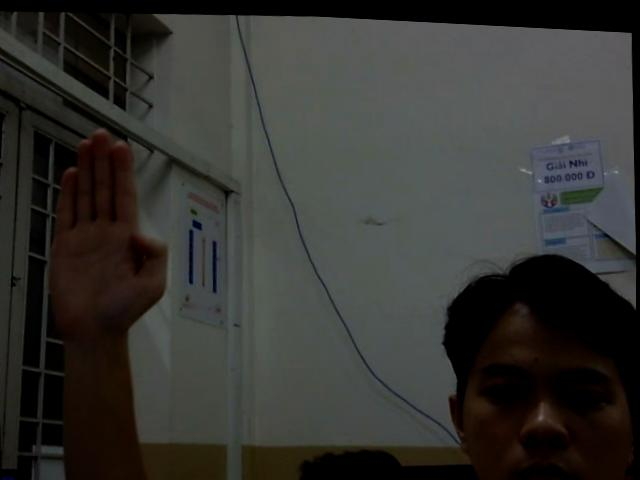B: (41, 126, 180, 336)
